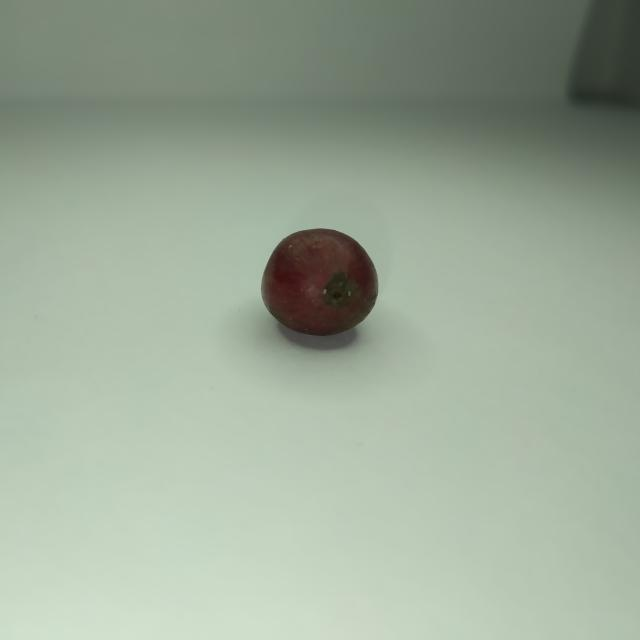Infectado: (261, 229, 377, 335)
